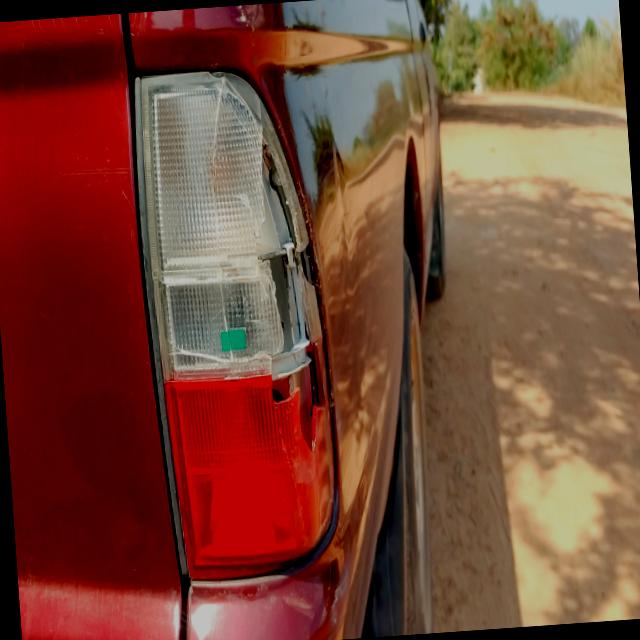Phare abime: (198, 67, 335, 448)
